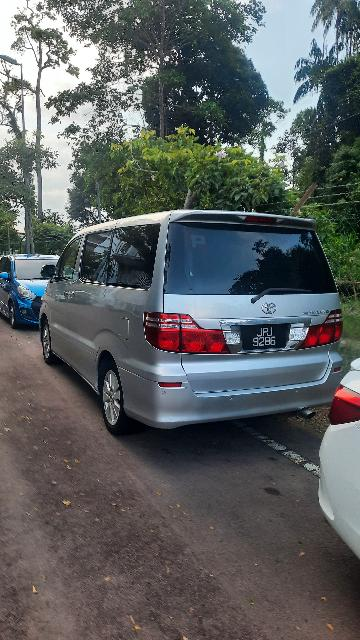License_Plate: (238, 321, 291, 351)
car: (37, 208, 346, 436)
